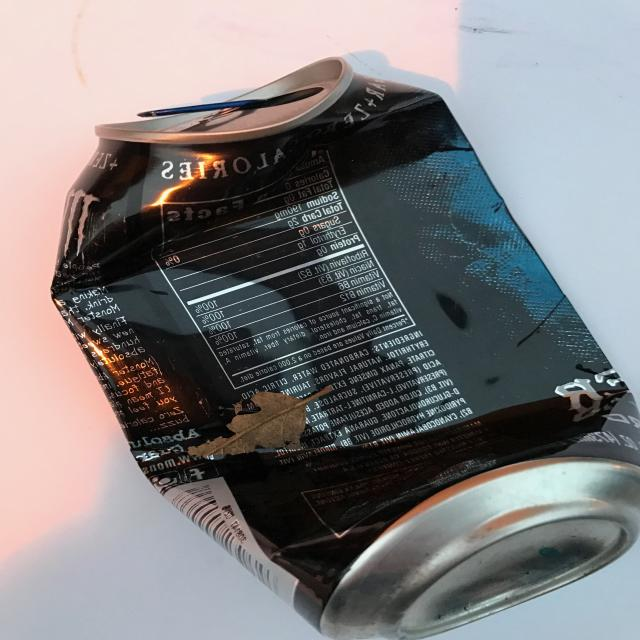metal: (50, 55, 640, 640)
